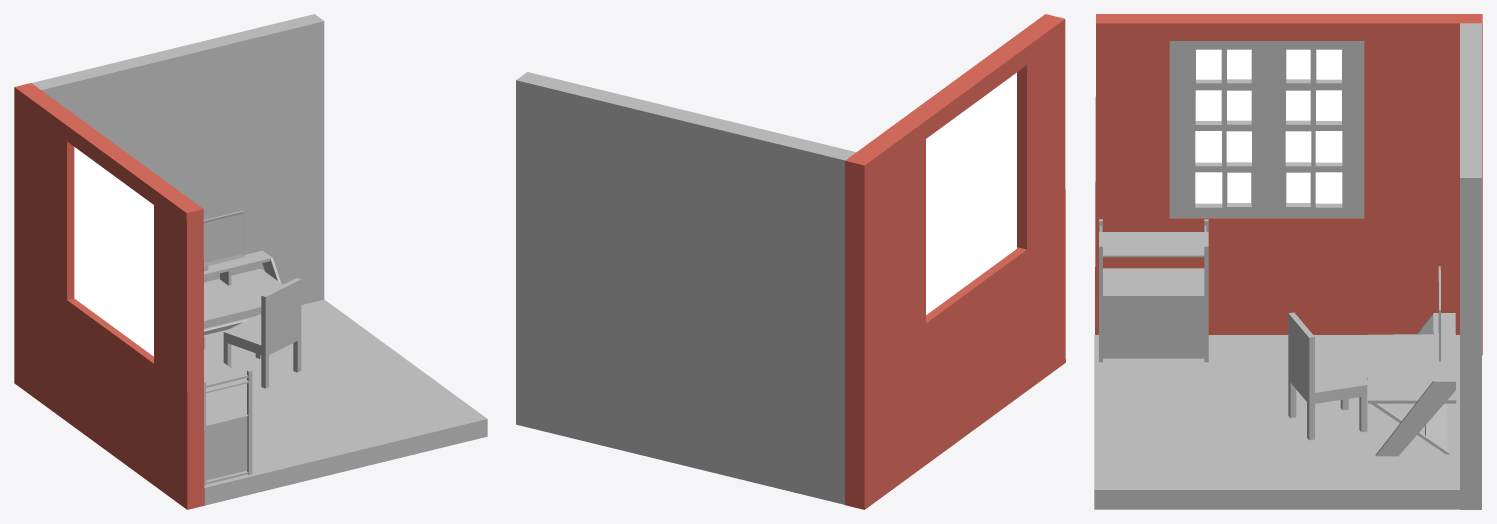
The model's file is SceneVers4.gltf.
The picture shows the model from 3 angles, left to right: view 1: azimuth 30°, elevation 25°; view 2: azimuth 150°, elevation 25°; view 3: azimuth 270°, elevation 25°; orthographic projection. The views are drawn at different scales.
Parts seen in each view (by area): view 1: Cube, Plane; view 2: Cube, Plane; view 3: Cube, Plane.
Part boxes in pixels (bbox=[...]): Cube: bbox=[14, 14, 487, 509]; Plane: bbox=[74, 147, 153, 356]; Cube: bbox=[516, 14, 1065, 509]; Plane: bbox=[926, 72, 1016, 314]; Cube: bbox=[1094, 14, 1482, 509]; Plane: bbox=[1195, 49, 1342, 203].
Size of what is drawn, in the model's own units: 2.12 by 2 by 2.12.
